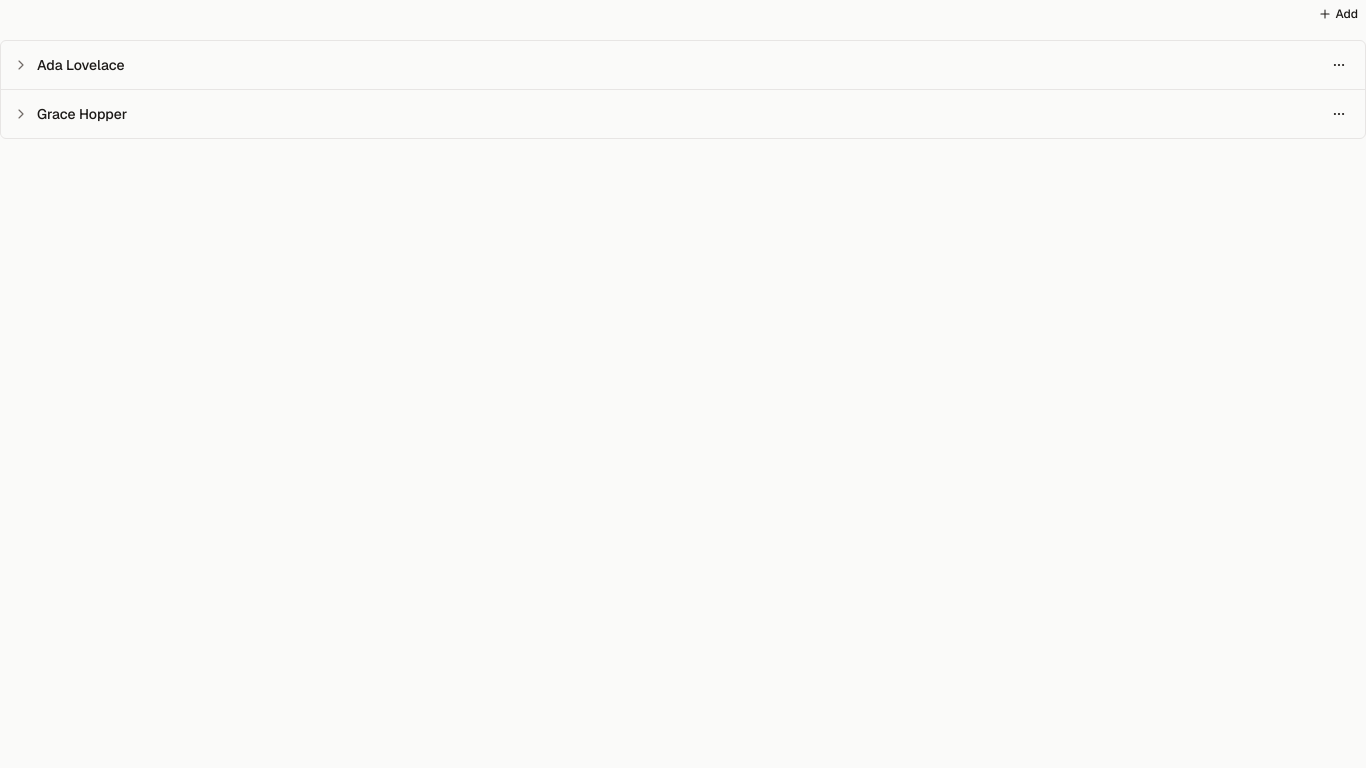
Test: removing a row through the overflow menu and the real dialog › opens the confirmation, traps focus, removes the row and releases the page
The width and height of the screenshot is (1366, 768).
What coordinates should you click on to do the following:
click the button named "More actions for Ada Lovelace"
I would click on:
 (1339, 65)
Its box is [1325,51,1353,79].
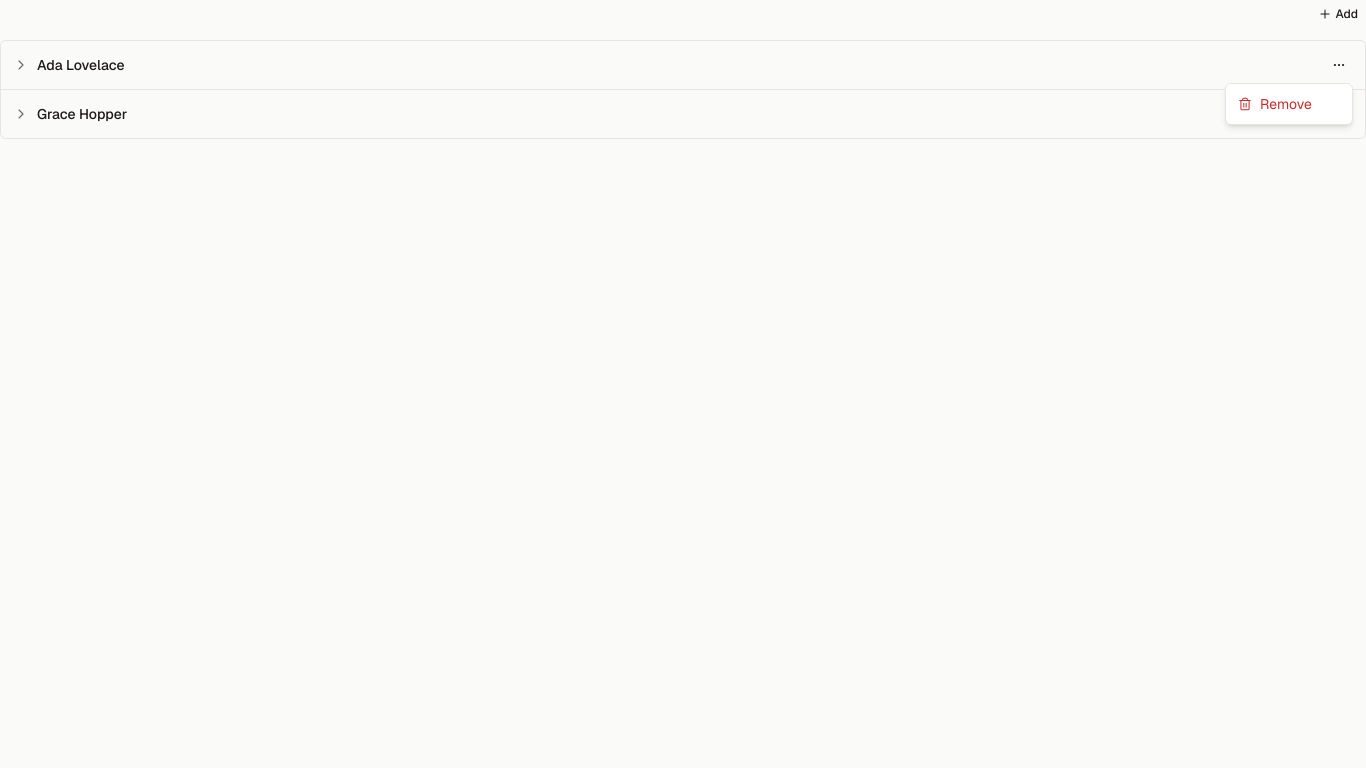
What coordinates should you click on to do the following:
click the menu item "Remove"
I would click on:
 (1275, 104)
Its box is [1238,95,1312,113].
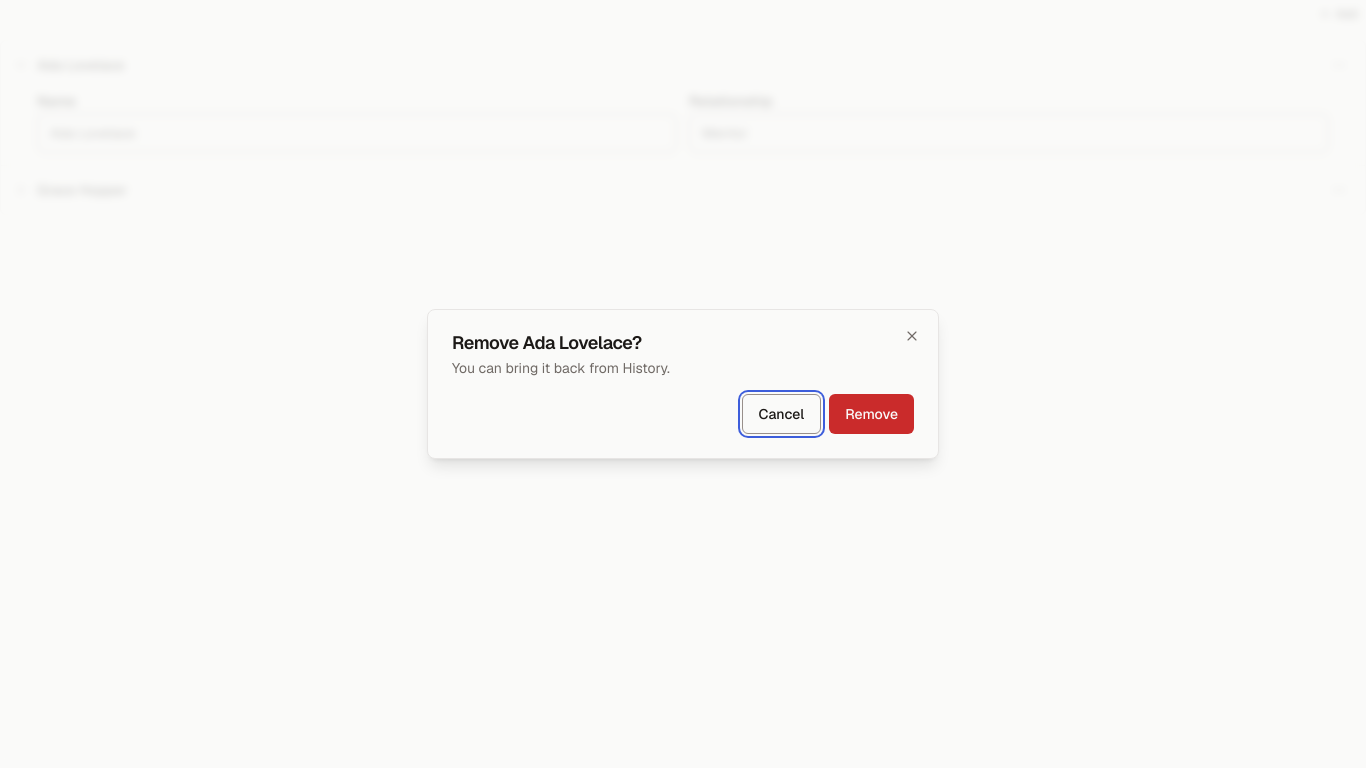
Check: the heading "Remove Ada Lovelace?" is shown, box [452,331,642,354]
What coordinates should you click on to do the following:
click the button "Remove"
I would click on:
 (872, 414)
Its box is [829,394,914,434].
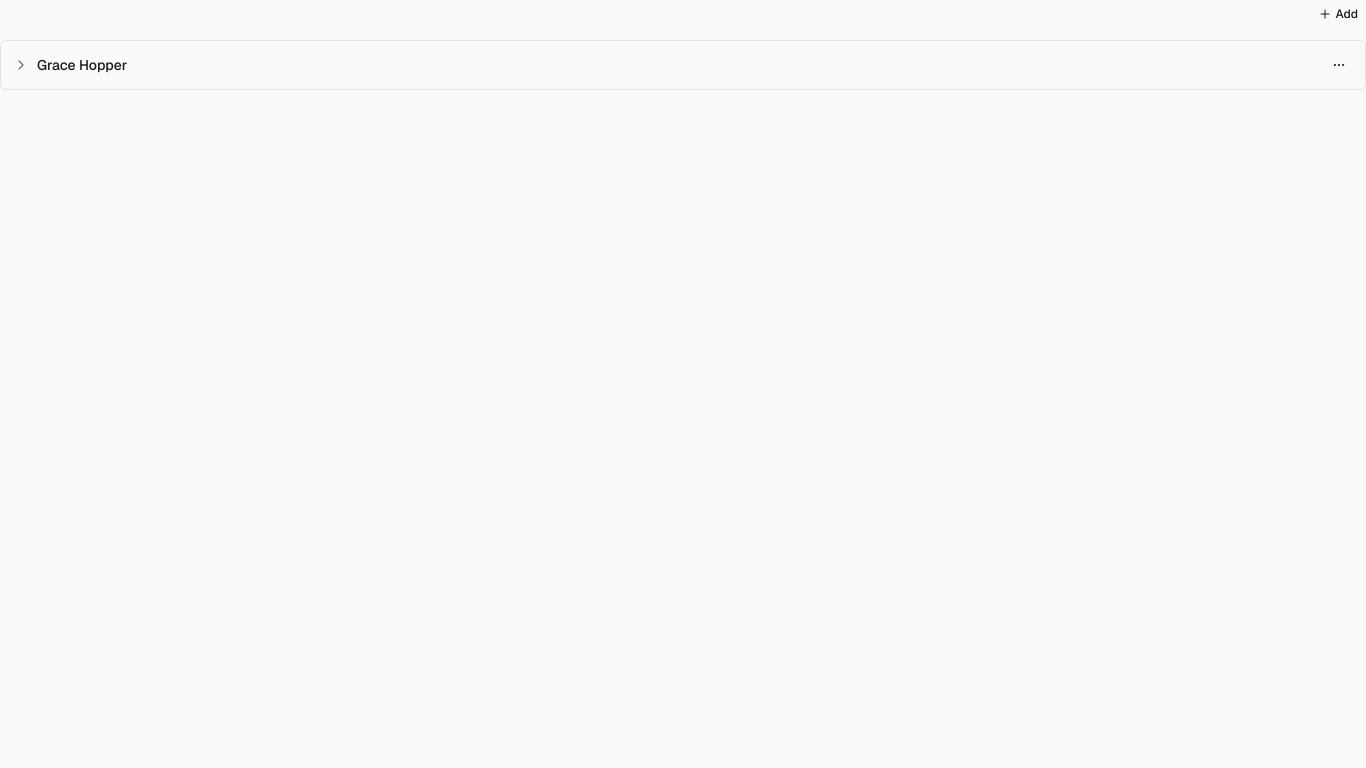
Check: the dialog is gone
